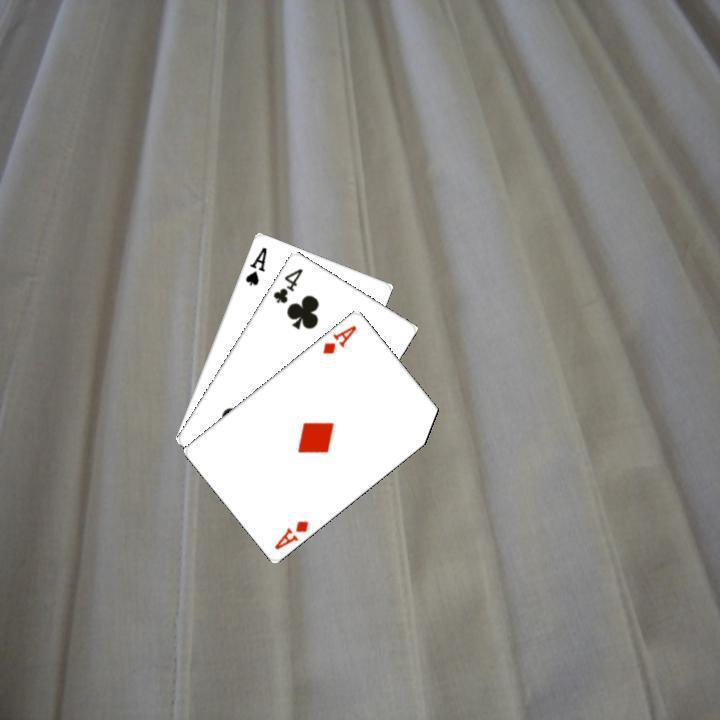4: (269, 264, 305, 305)
A: (318, 320, 359, 356), (270, 516, 311, 551), (241, 242, 269, 287)
